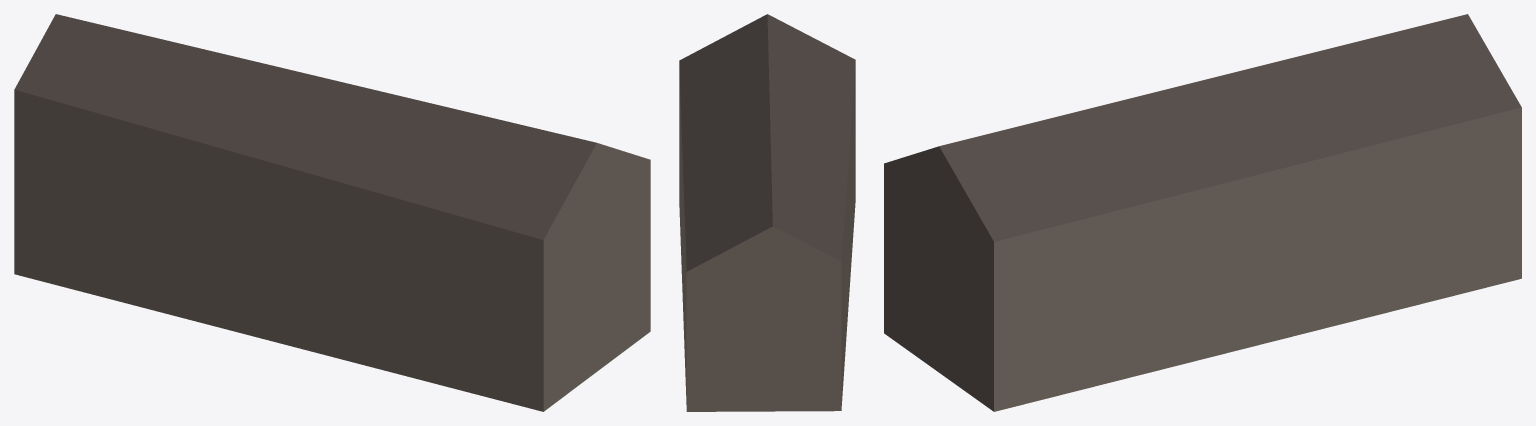
3 renders of one model, left to right at view 1: azimuth 30°, elevation 25°; view 2: azimuth 150°, elevation 25°; view 3: azimuth 270°, elevation 25°, orthographic. The views are drawn at different scales.
Parts seen in each view (by area): view 1: HP-w1512359759; view 2: HP-w1512359759; view 3: HP-w1512359759.
Part boxes in pixels (<box>): HP-w1512359759: <box>14,14,650,411</box>; HP-w1512359759: <box>679,14,855,411</box>; HP-w1512359759: <box>884,14,1521,411</box>.
Size of the model in its own units: 22.94 by 11.99 by 30.6.
